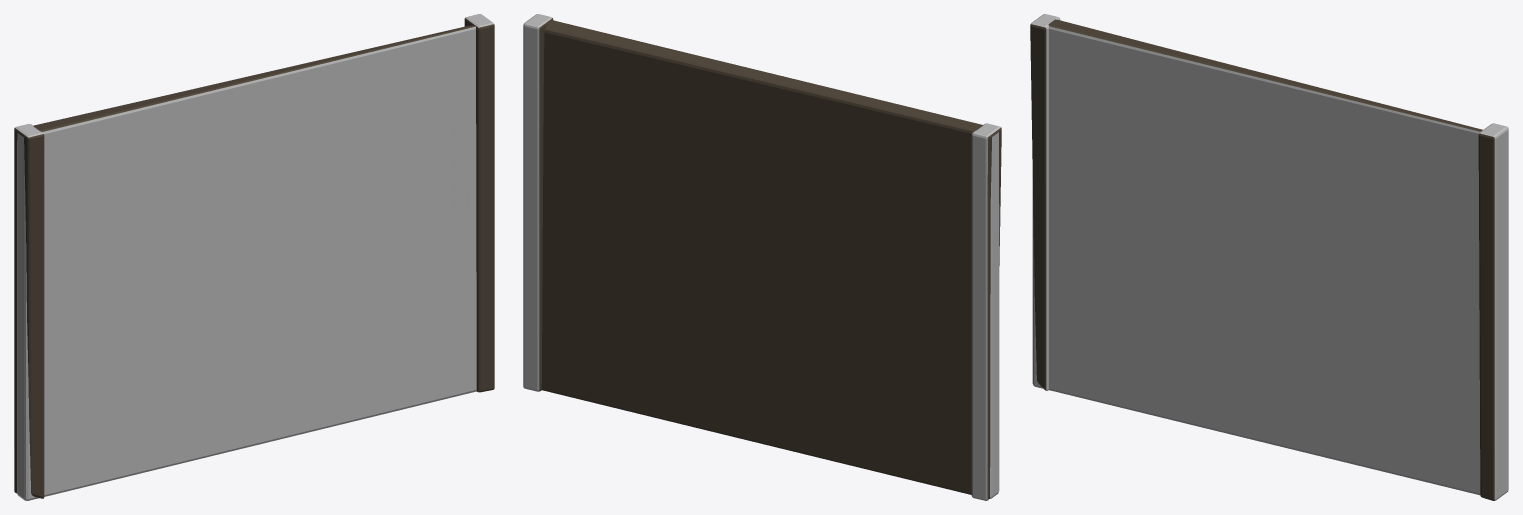
The model's file is wall_straight_1x1_damaged.glb.
3 views of the same model, side by side, from view 1: azimuth 30°, elevation 25°; view 2: azimuth 150°, elevation 25°; view 3: azimuth 330°, elevation 25° (orthographic).
Visible parts, largest first — view 1: Visual_wall_straight_1x1_Panel, Visual_wall_straight_1x1_WestPost, Visual_wall_straight_1x1_EastPost; view 2: Visual_wall_straight_1x1_Panel, Visual_wall_straight_1x1_WestPost, Visual_wall_straight_1x1_EastPost; view 3: Visual_wall_straight_1x1_Panel, Visual_wall_straight_1x1_EastPost, Visual_wall_straight_1x1_WestPost.
Part boxes in pixels (bbox=[...]): Visual_wall_straight_1x1_Panel: bbox=[17, 25, 476, 500]; Visual_wall_straight_1x1_WestPost: bbox=[14, 124, 44, 498]; Visual_wall_straight_1x1_EastPost: bbox=[464, 14, 494, 392]; Visual_wall_straight_1x1_Panel: bbox=[541, 20, 999, 498]; Visual_wall_straight_1x1_WestPost: bbox=[971, 123, 1001, 500]; Visual_wall_straight_1x1_EastPost: bbox=[523, 14, 553, 391]; Visual_wall_straight_1x1_Panel: bbox=[1032, 19, 1482, 495]; Visual_wall_straight_1x1_EastPost: bbox=[1478, 123, 1508, 500]; Visual_wall_straight_1x1_WestPost: bbox=[1030, 14, 1060, 390].
Bounding box in the file's own units: 4 × 3 × 0.22.
